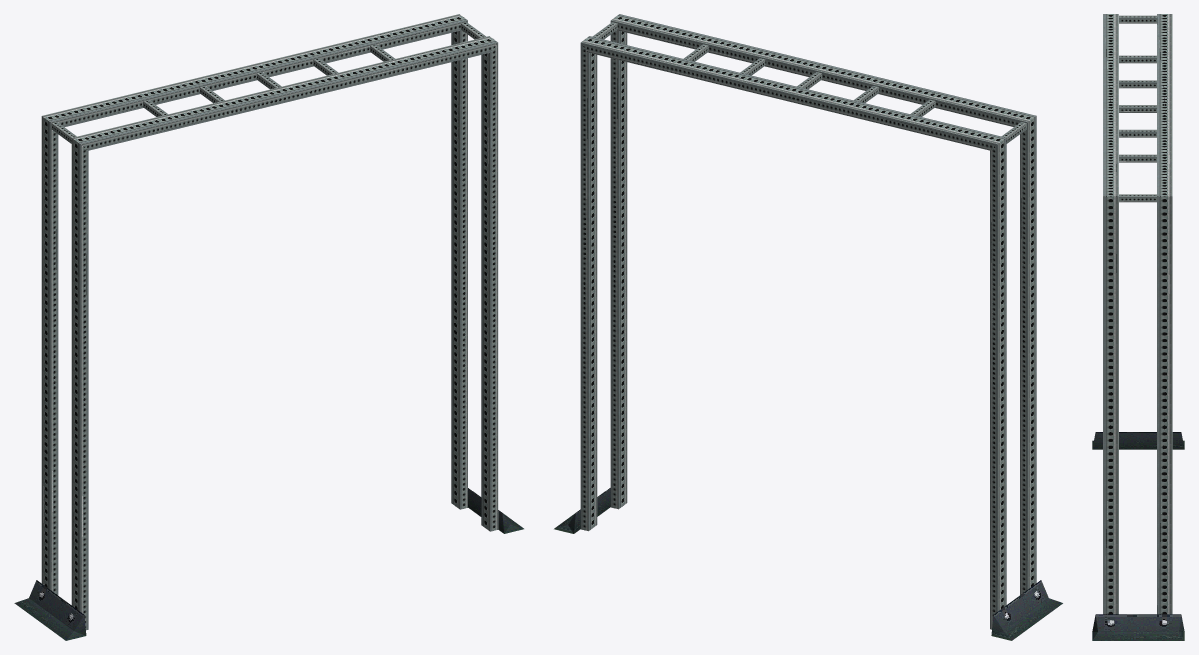
The model's file is computer_rack_wall_2.fbx.
3 renders of one model, left to right at view 1: azimuth 30°, elevation 25°; view 2: azimuth 150°, elevation 25°; view 3: azimuth 270°, elevation 25°, orthographic. The views are drawn at different scales.
Visible parts, largest first — view 1: mesh_0; view 2: mesh_0; view 3: mesh_0.
Part boxes in pixels (bbox=[...]): mesh_0: bbox=[14, 14, 523, 640]; mesh_0: bbox=[554, 14, 1062, 640]; mesh_0: bbox=[1092, 14, 1184, 640].
Bounding box in the file's own units: 242 × 246 × 47.32.
1 material, 1 textured.
